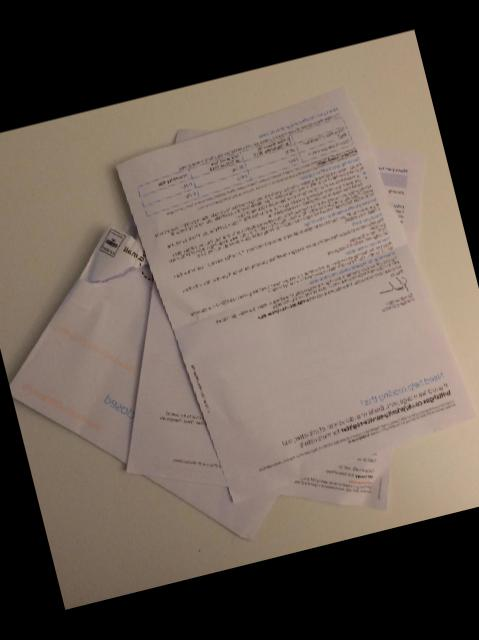cardboard paper: (117, 91, 470, 502), (9, 216, 390, 541)
